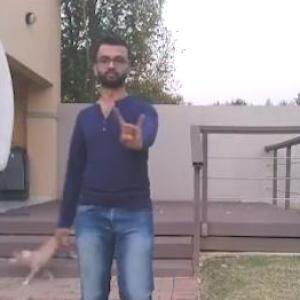takeoff-hand: (111, 99, 154, 157)
